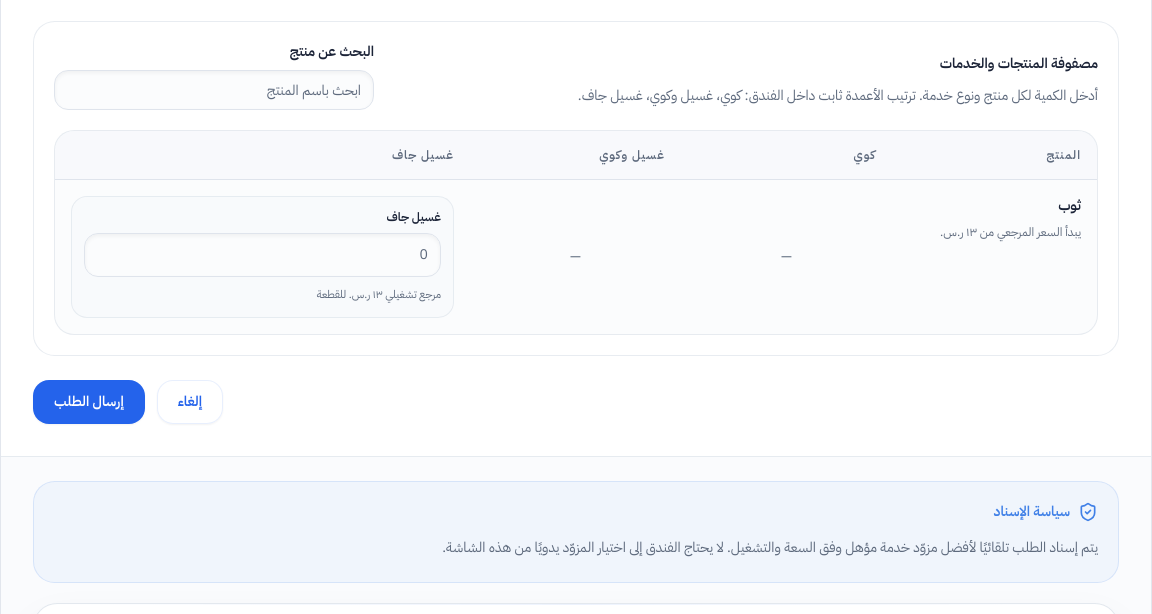
HotelOrderForm › requires the room number before submitting the hotel order
(page scrolled)
Type "2" into the field with test id "hotel-order-quantity-svc-thobe-dry_clean".
click(262, 255); type("2")  # box x1=84 y1=233 x2=441 y2=277
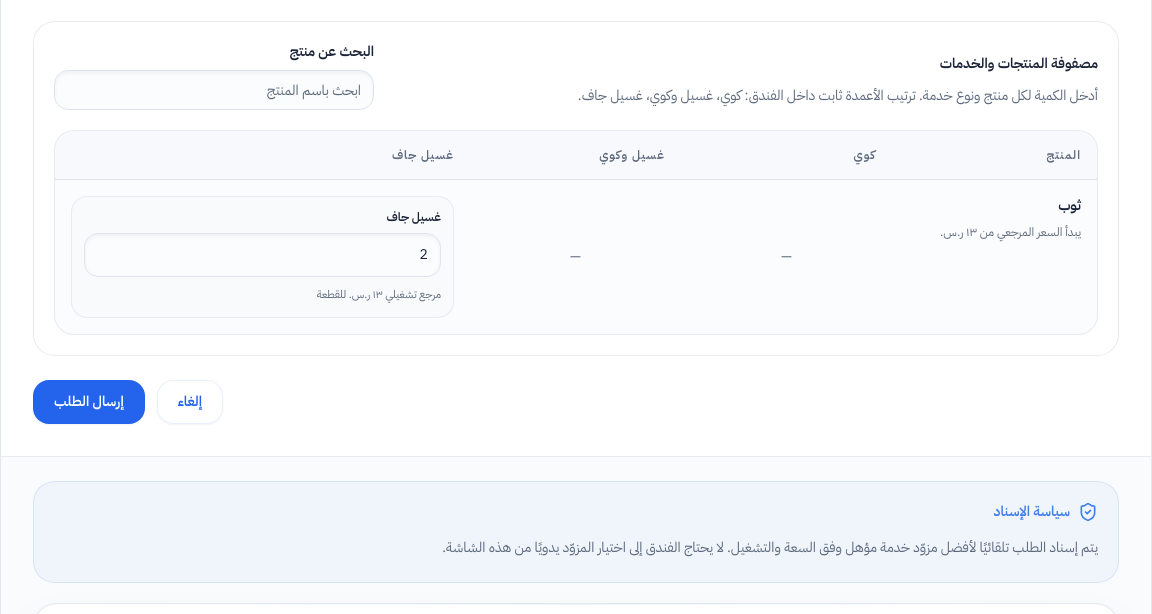
Click the button "إرسال الطلب".
click(89, 402)  # box x1=33 y1=380 x2=145 y2=424
(page scrolled)
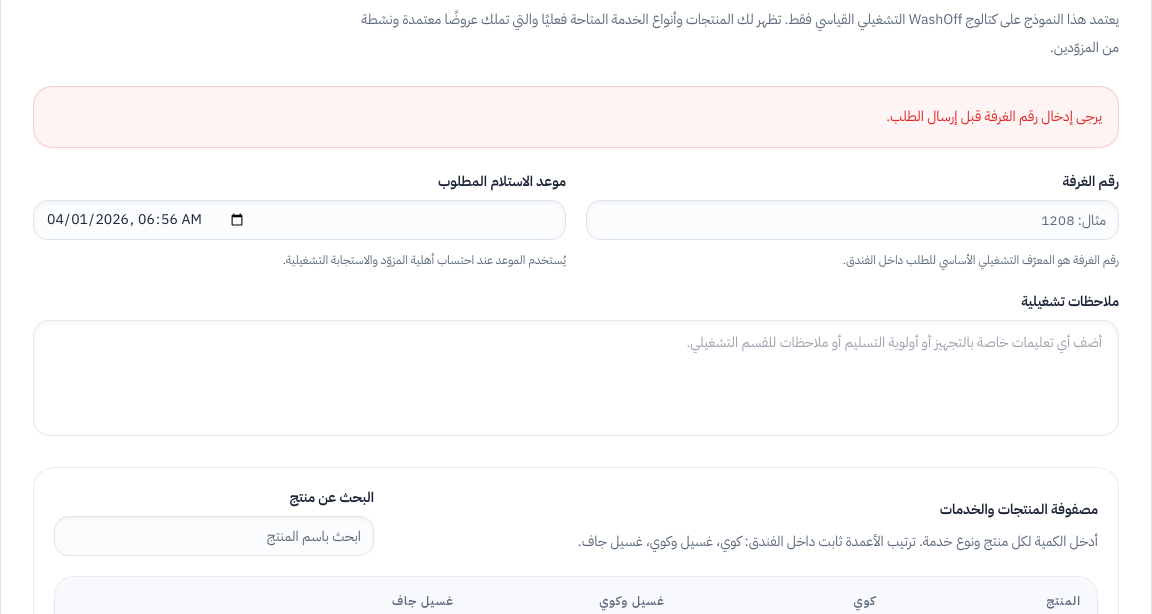
expect the text "يرجى إدخال رقم الغرفة قبل إرسال الطلب." is shown: met, box x1=33 y1=86 x2=1119 y2=148
